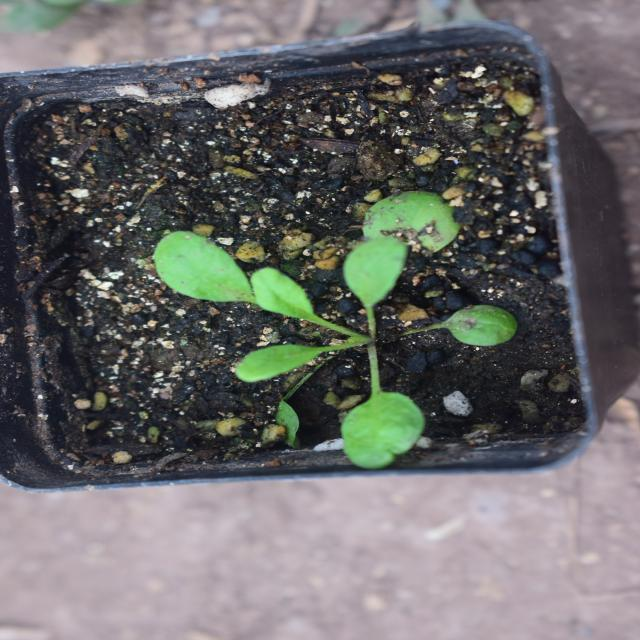Shepherd_Purse: (165, 141, 463, 504)
